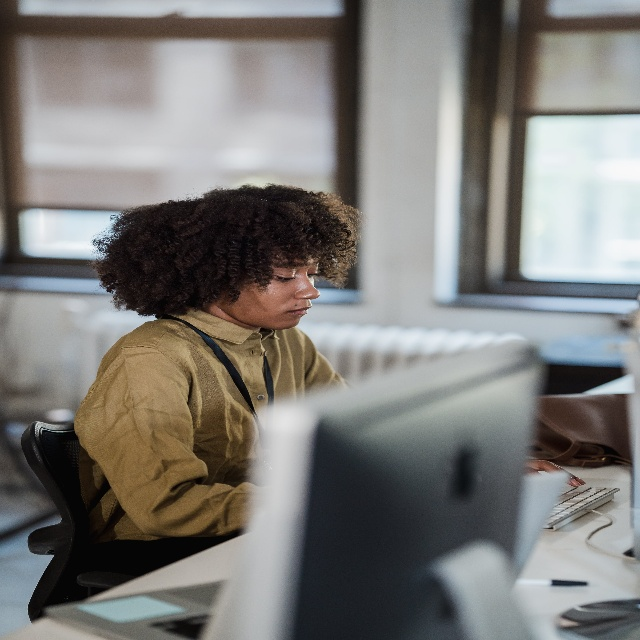Sin_guantes: (523, 459, 586, 487)
